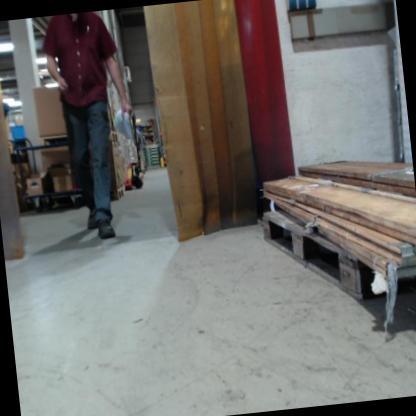pallet: (259, 201, 374, 309), (36, 133, 67, 145), (109, 185, 126, 202), (108, 126, 119, 141)
pallet_truck: (119, 110, 146, 191)
